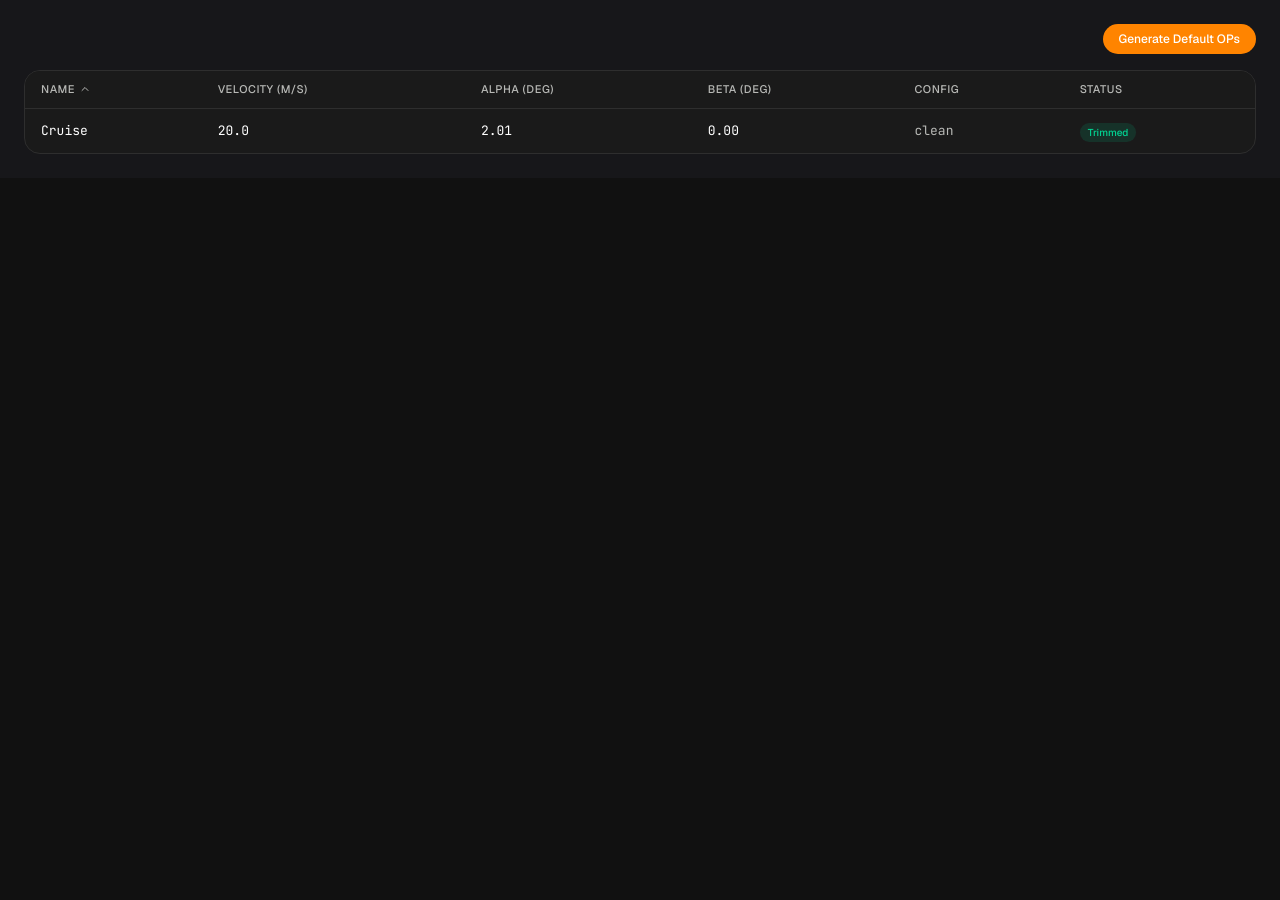
Test: OperatingPointsPanel › clicking a row opens the detail drawer
Click the text "Cruise" at (64, 130), box [25,108,202,152]
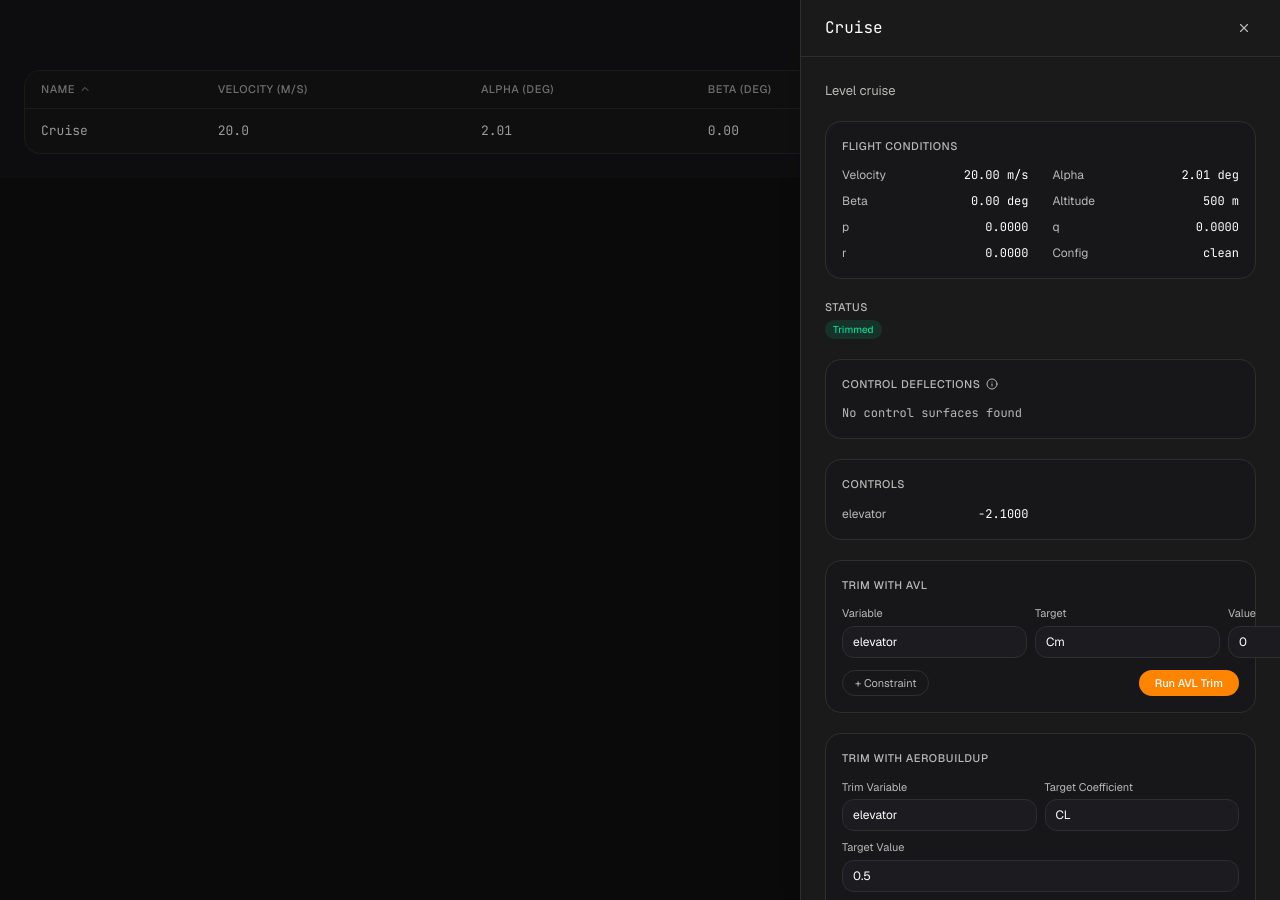
Expected: the text "Flight Conditions" is shown, [842,138,958,152]
